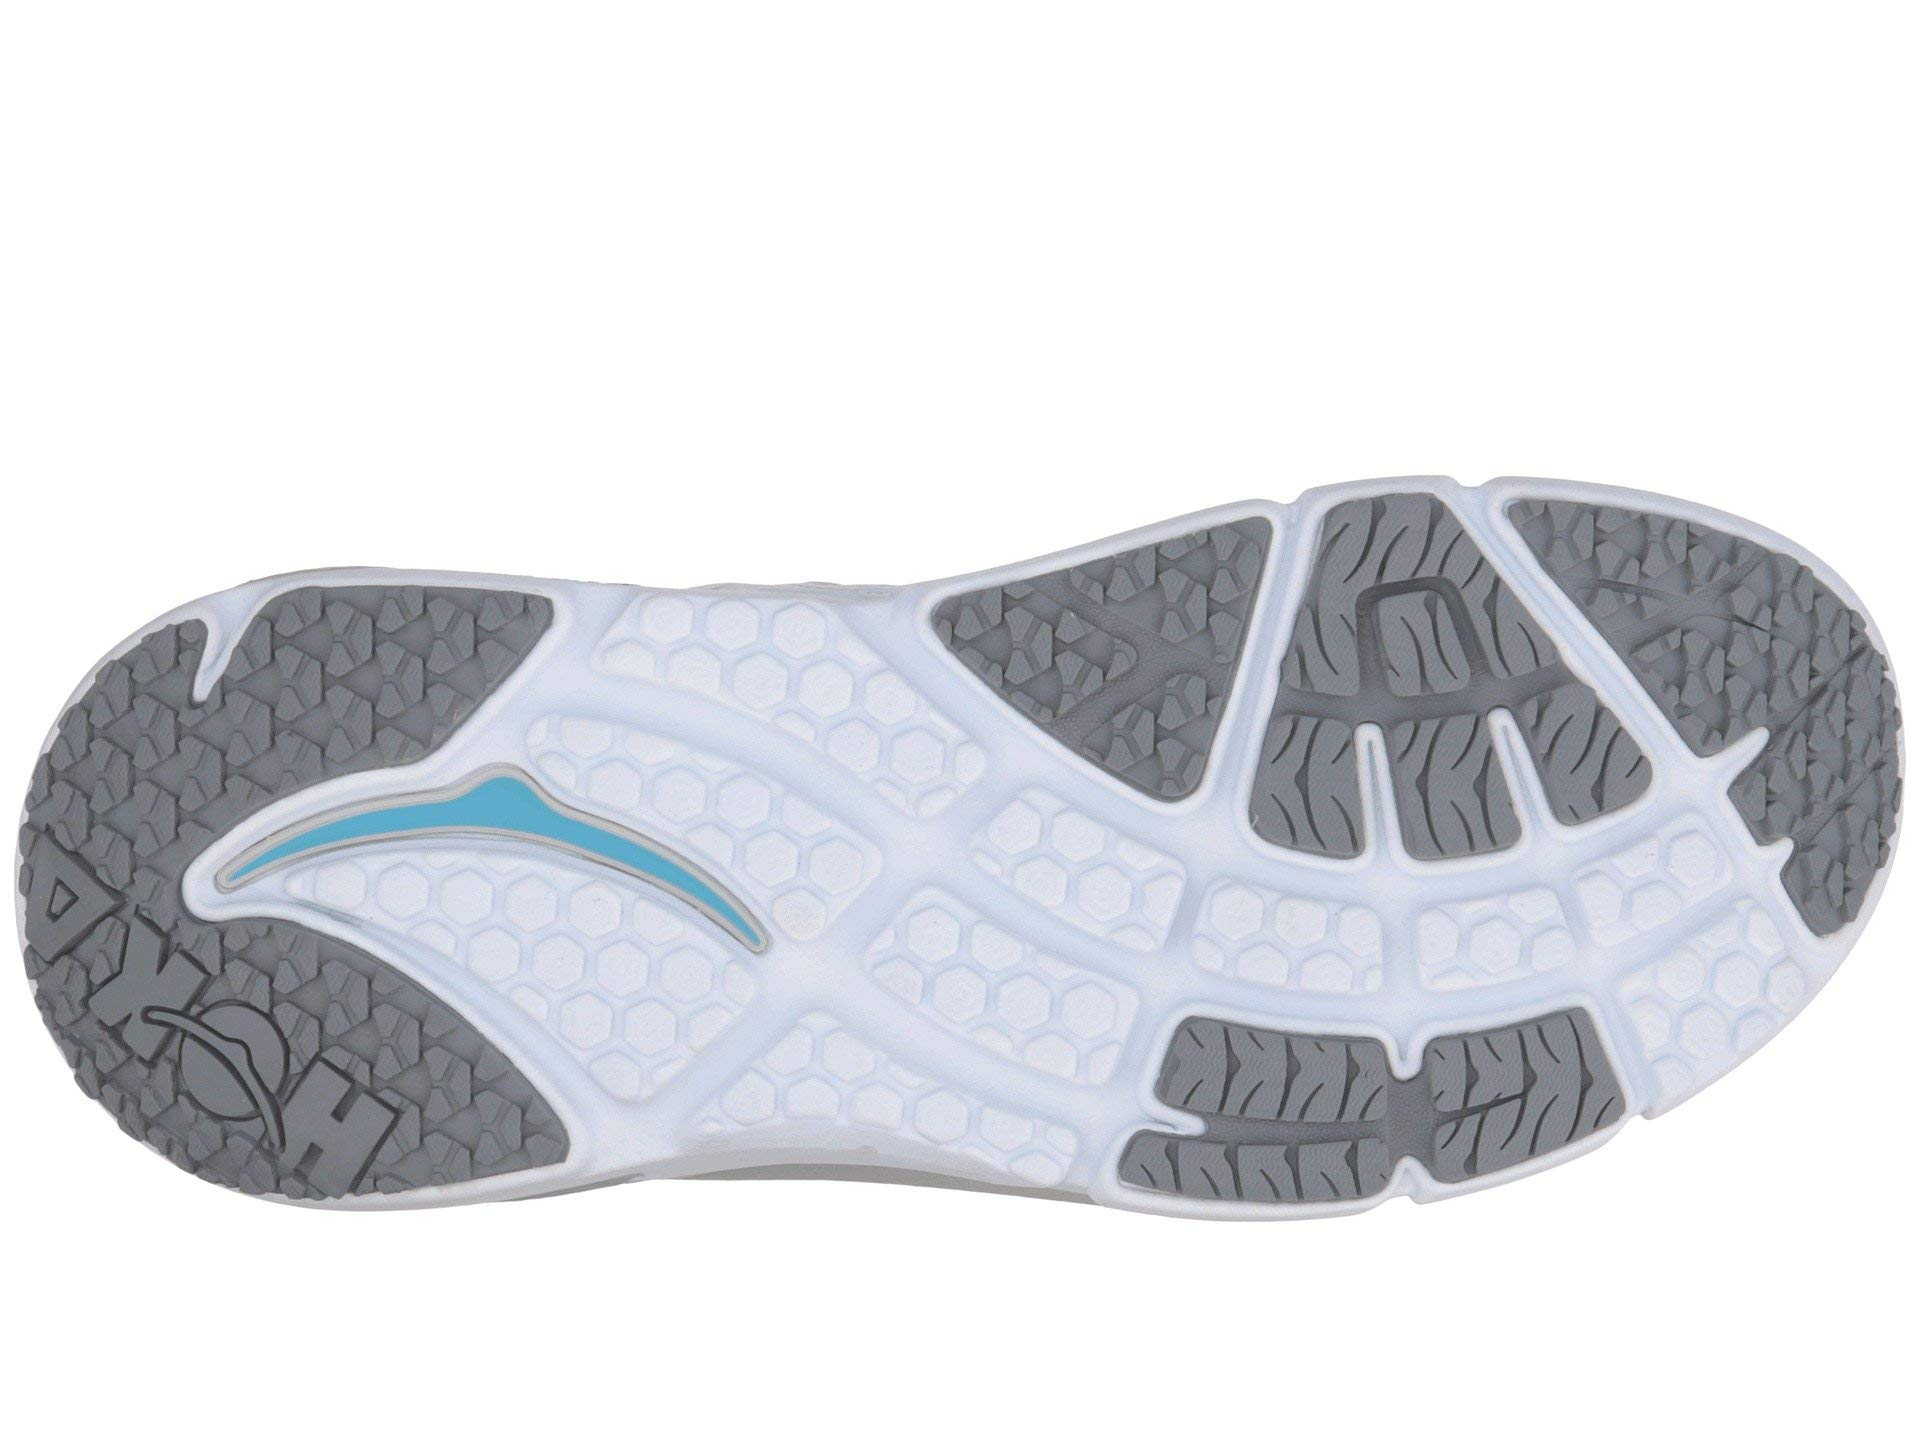polygon: (464, 830, 1082, 1172), (8, 815, 432, 1190), (597, 591, 968, 852), (1169, 846, 1604, 1010), (1584, 811, 1801, 1047)
quad: (8, 815, 432, 1190)
text: (8, 815, 432, 1190)
